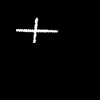single_crochet: (16, 18, 57, 42)
